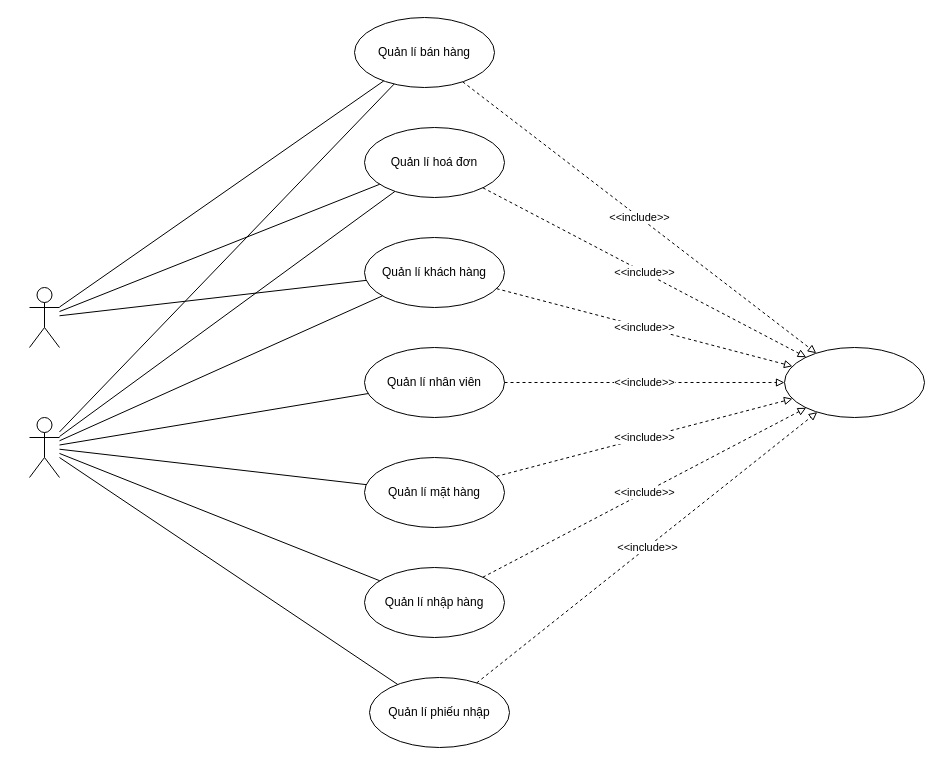
Image size: 942x765. Some labels were removed from this diagram. Each missing label, with the box of its shape:
Nhân viên: (28, 286, 60, 348)
Quản trị: (28, 416, 60, 478)
Đăng nhập: (784, 346, 924, 418)
